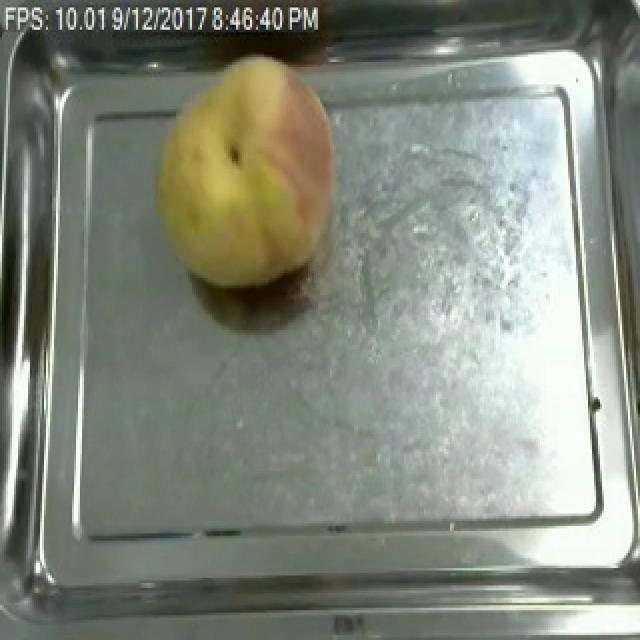Fruit: (144, 52, 350, 298)
